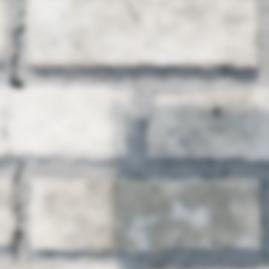brick: (29, 177, 261, 252), (25, 0, 163, 67), (130, 0, 258, 68), (147, 88, 268, 159), (0, 179, 16, 245), (0, 1, 9, 62), (213, 266, 230, 268), (256, 266, 268, 268), (165, 266, 174, 268)
broken_brick: (8, 85, 130, 161), (0, 264, 122, 268), (0, 87, 9, 123), (0, 138, 6, 156)
crack: (0, 2, 28, 266), (123, 0, 181, 64)
